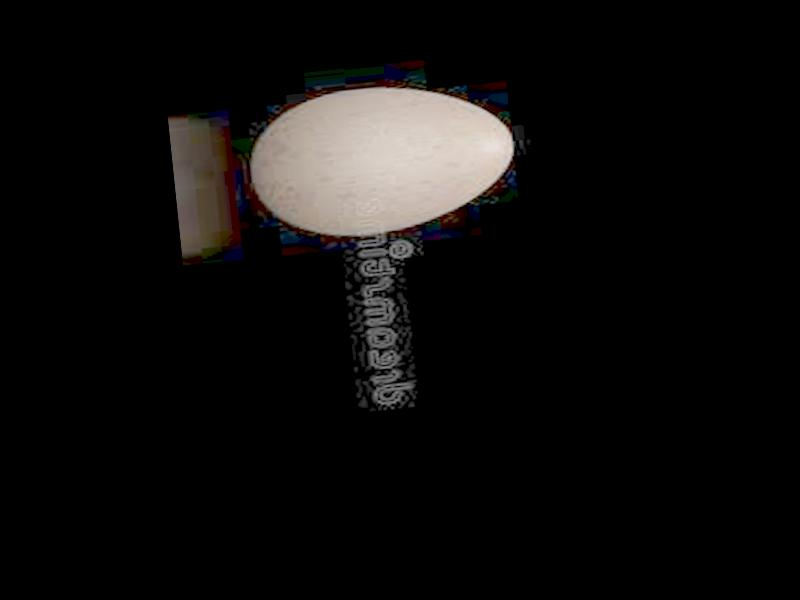Eggs: (243, 73, 522, 244)
